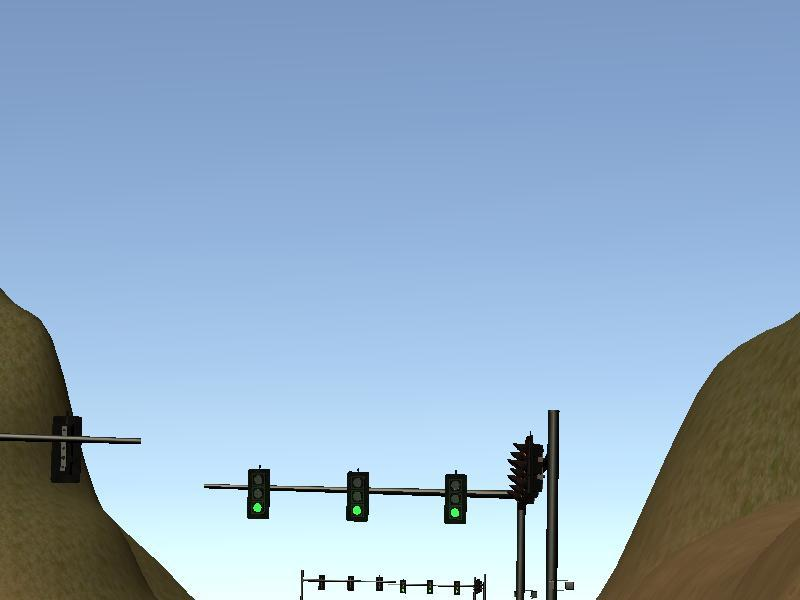Green: (247, 469, 269, 518), (444, 474, 466, 523), (347, 472, 369, 521)
